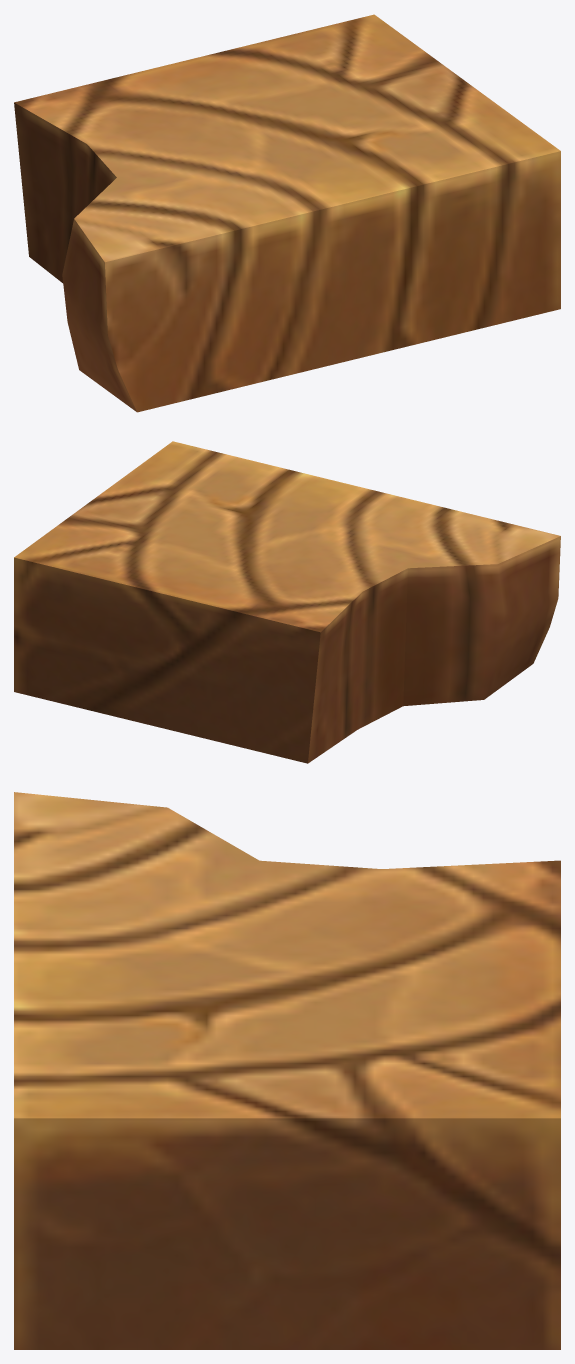
File: Stage_ShaMo_ZhuanKuai02.FBX
The picture shows the model from 3 angles, top to bottom: view 1: azimuth 30°, elevation 25°; view 2: azimuth 150°, elevation 25°; view 3: azimuth 270°, elevation 25°; orthographic projection. The views are drawn at different scales.
Visible parts, largest first — view 1: Stage_ShaMo_ZhuanKuai02; view 2: Stage_ShaMo_ZhuanKuai02; view 3: Stage_ShaMo_ZhuanKuai02.
Boxes of the visible parts, <box> form: Stage_ShaMo_ZhuanKuai02: <box>14,14,560,412</box>; Stage_ShaMo_ZhuanKuai02: <box>14,441,560,763</box>; Stage_ShaMo_ZhuanKuai02: <box>14,792,560,1349</box>.
Size of the model in its own units: 91.36 by 30.25 by 64.73.
